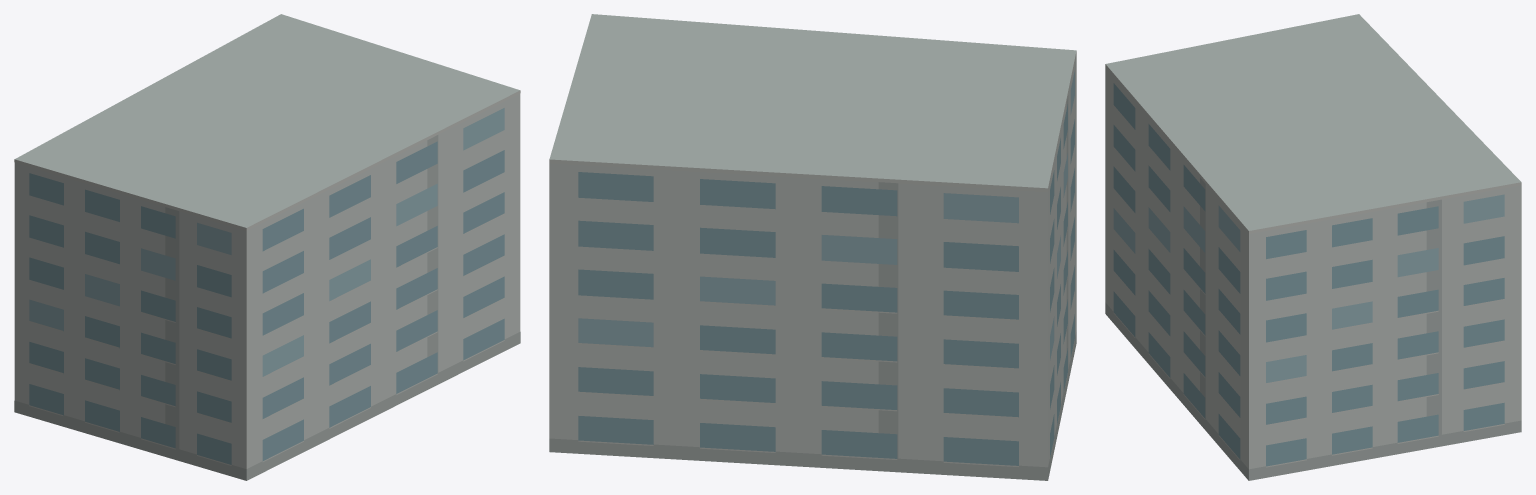
Rendered from survey-upis-32969807.glb.
3 renders of one model, left to right at view 1: azimuth 30°, elevation 25°; view 2: azimuth 150°, elevation 25°; view 3: azimuth 270°, elevation 25°, orthographic. The views are drawn at different scales.
Visible parts, largest first — view 1: survey-upis-32969807.tmp; view 2: survey-upis-32969807.tmp; view 3: survey-upis-32969807.tmp.
Boxes of the visible parts, x1,y1,x2,y2 form: survey-upis-32969807.tmp: [14, 14, 520, 480]; survey-upis-32969807.tmp: [549, 14, 1076, 480]; survey-upis-32969807.tmp: [1105, 14, 1521, 480].
Size of the model in its own units: 36.69 by 19.7 by 29.73.
